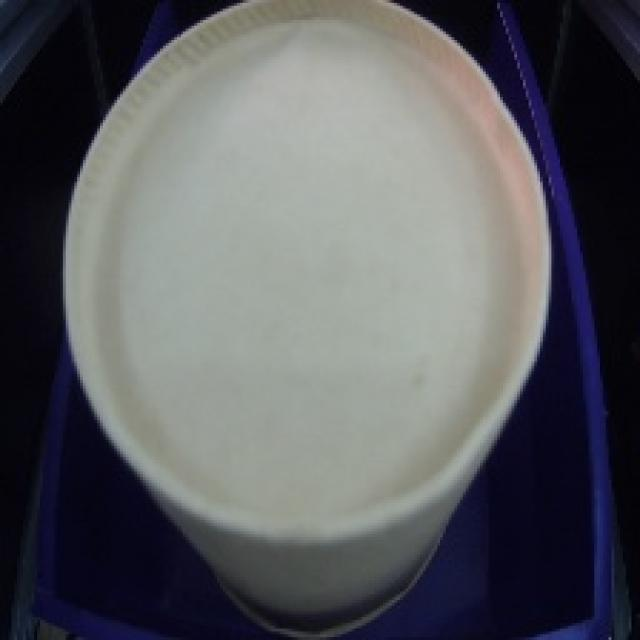cups: (47, 0, 572, 640)
